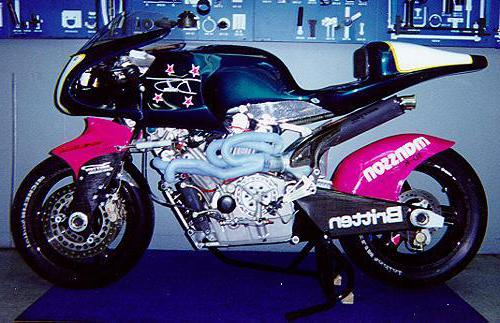motorcycle: (11, 21, 497, 305)
